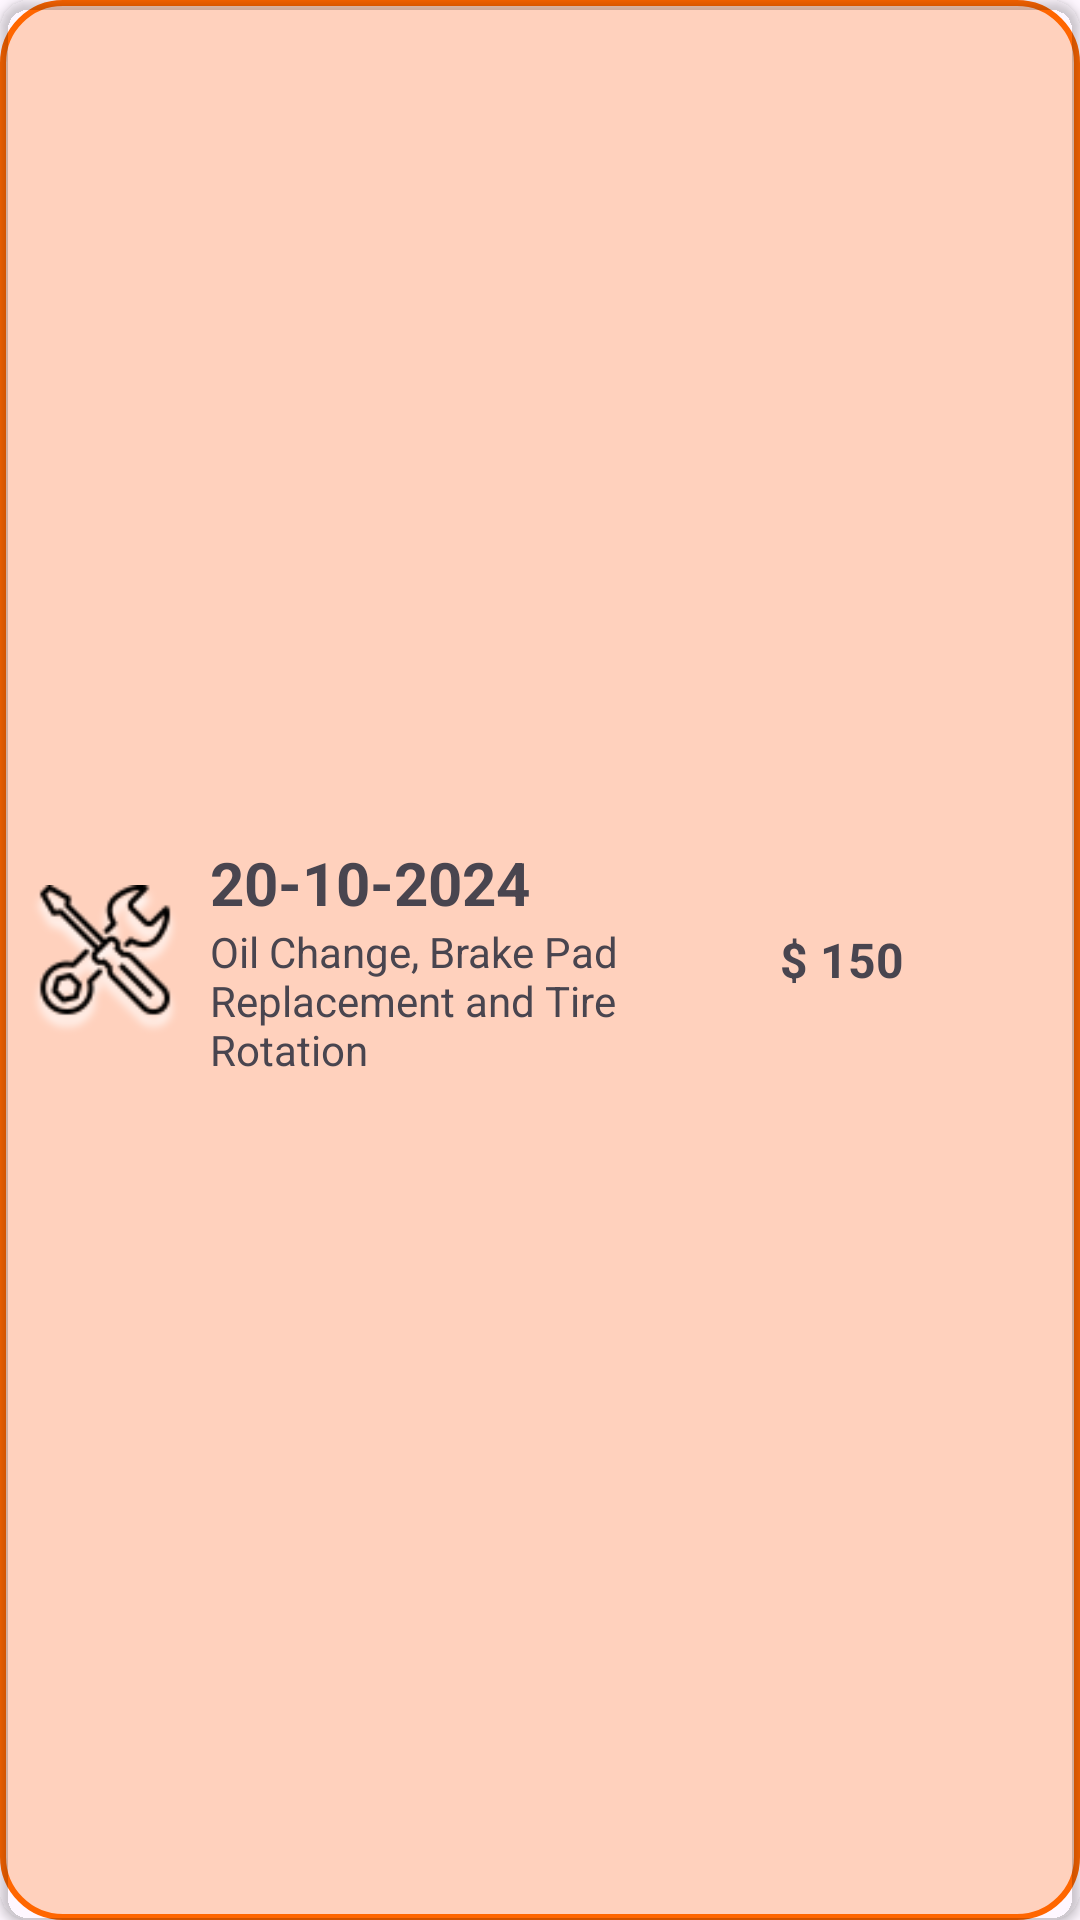

Screen size 1080px×1920px. Icon name, then its box in pixels as region(x1, y1, x2, y2):
tools: region(39, 885, 171, 1026)
